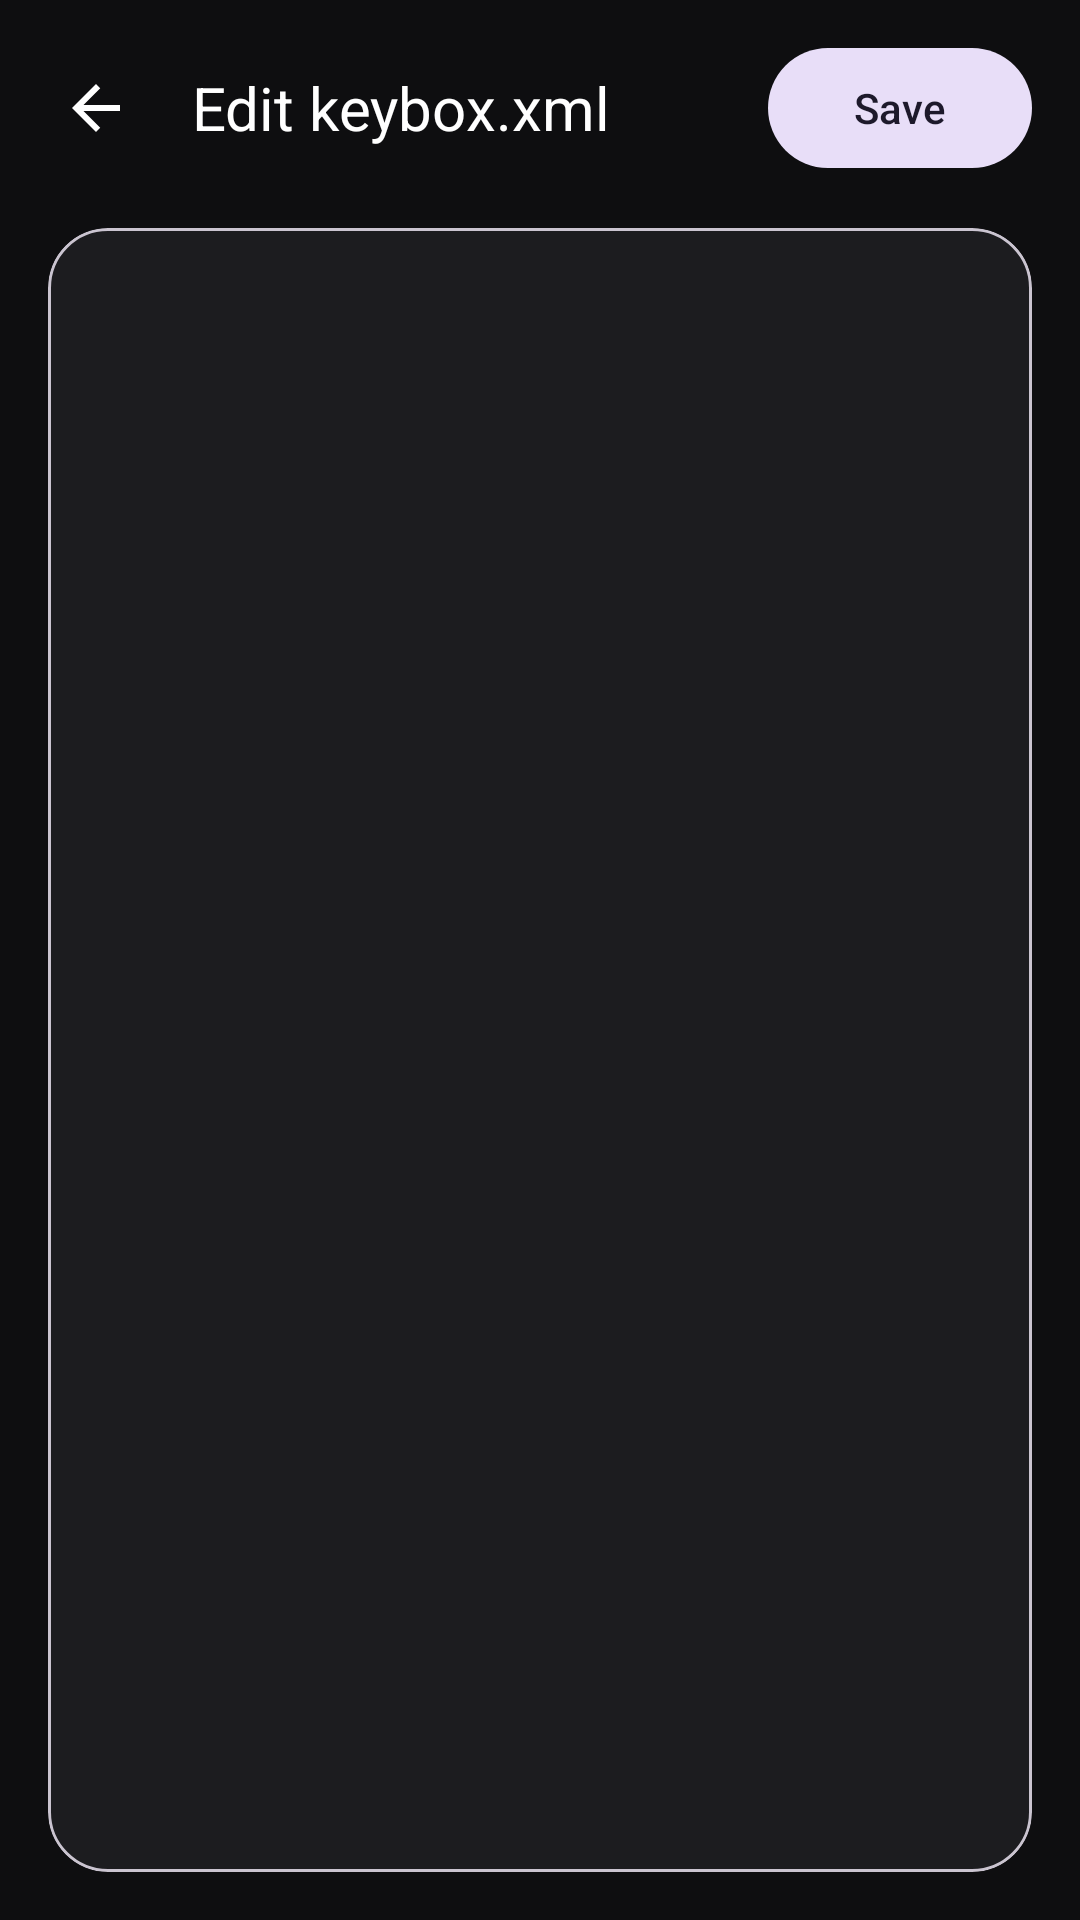

Where to tap for icons on this 1080*1920 app screen, as [x,y]:
arrow back: [96,108]
